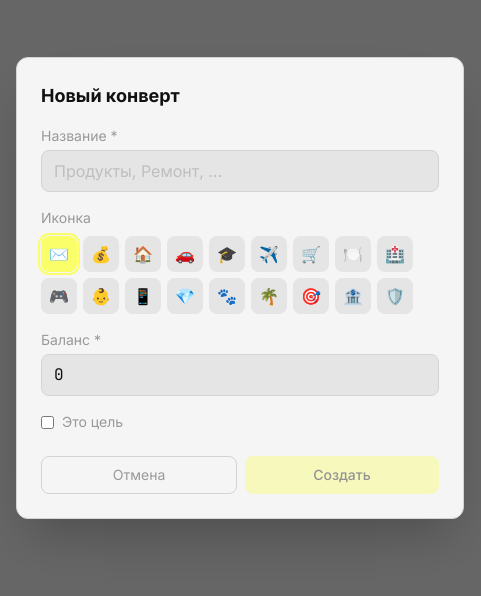
EnvelopeModal › create mode › скрывает поле целевой суммы после выключения «Это цель»
Click the checkbox labelled "Это цель" at coordinates (48, 422), box [41,416,54,428]
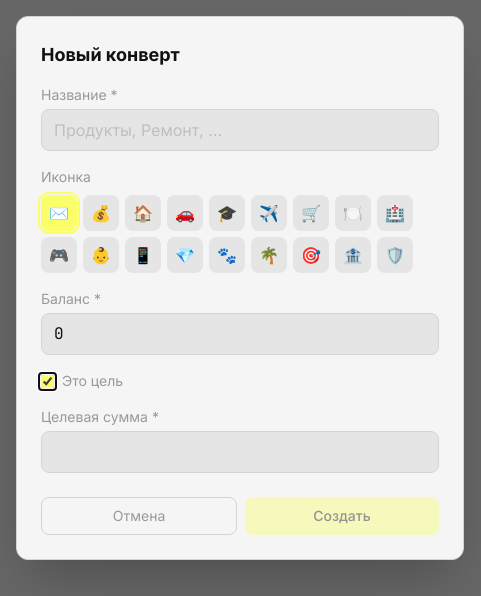
Expected: the text "Целевая сумма *" is shown, [41,408,159,425]
Click the checkbox labelled "Это цель" at coordinates (48, 381), box [41,374,54,388]
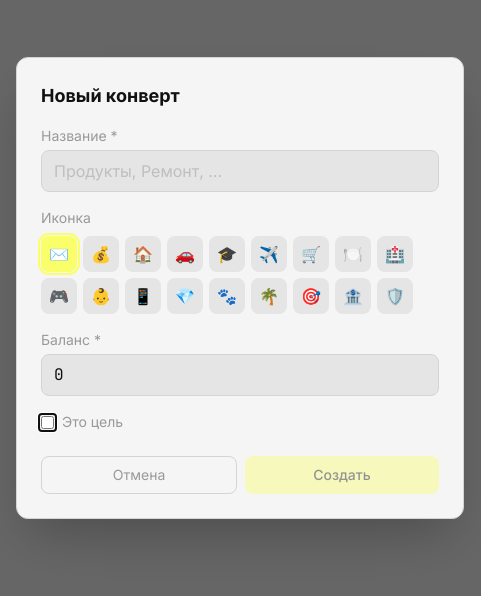
Expected: the text "Целевая сумма *" is gone
